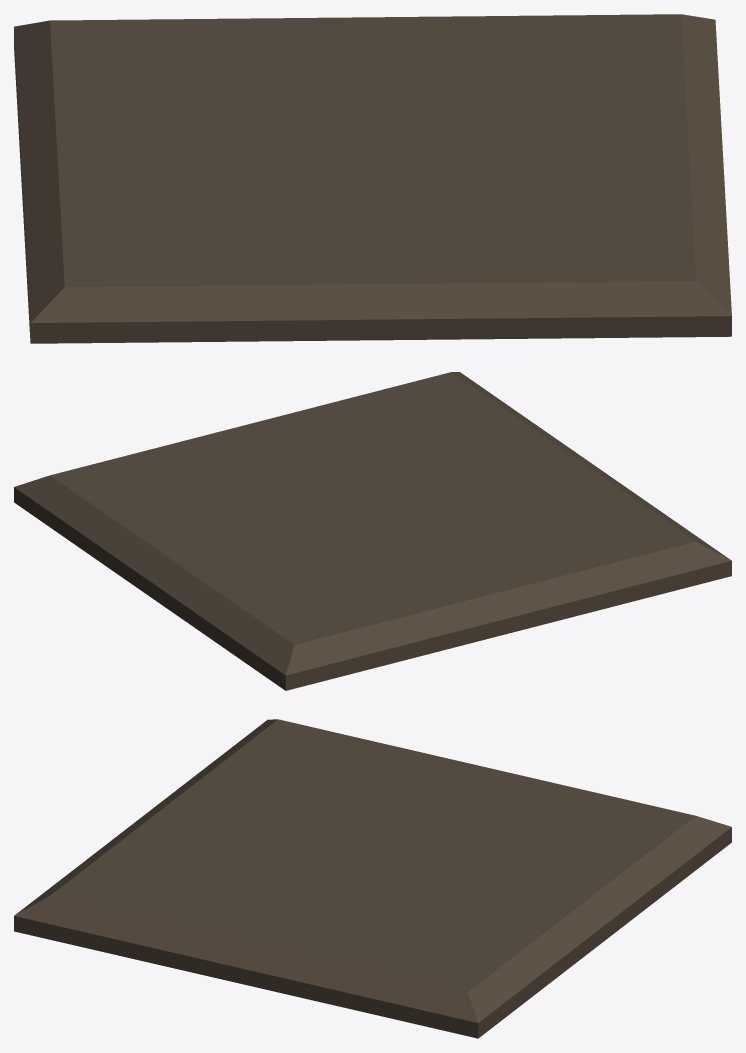
File: TEMP_Display_Platform.fbx
3 views of the same model, one above another, from view 1: azimuth 30°, elevation 25°; view 2: azimuth 150°, elevation 25°; view 3: azimuth 270°, elevation 25° (orthographic). The views are drawn at different scales.
Parts seen in each view (by area): view 1: Display_Platform; view 2: Display_Platform; view 3: Display_Platform.
Part boxes in pixels (<box>): Display_Platform: <box>14,14,731,343</box>; Display_Platform: <box>14,372,731,690</box>; Display_Platform: <box>14,719,731,1038</box>.
Bounding box in the file's own units: 9.36 × 0.4483 × 9.36.
